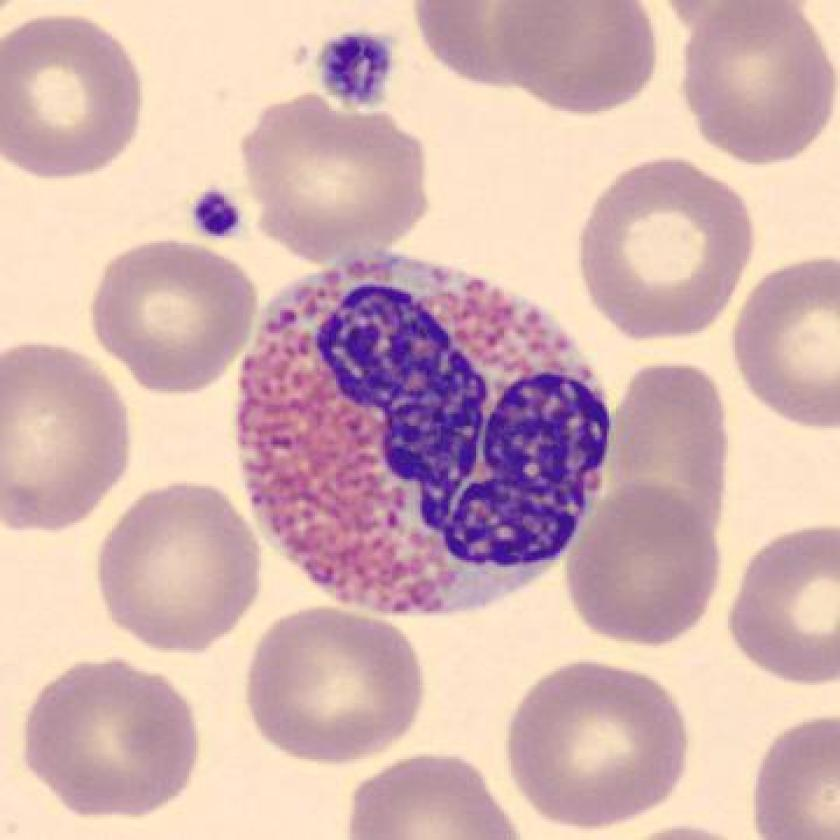eosinophil: (223, 242, 622, 626)
